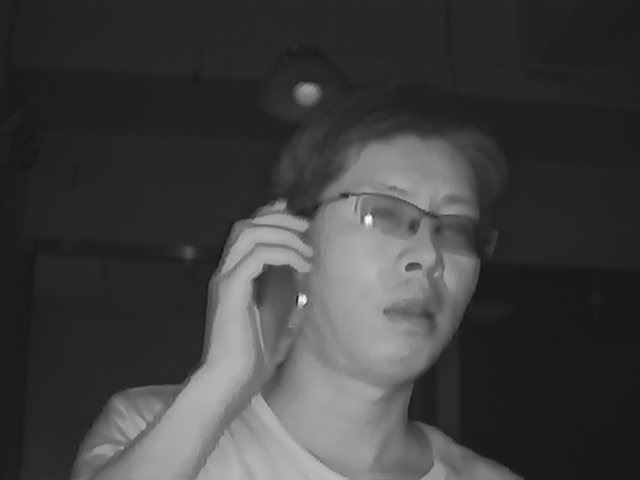hand: (188, 203, 310, 377)
